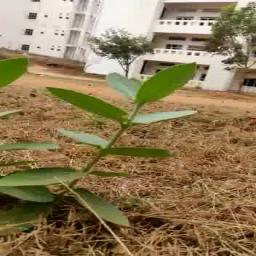CALOTROPIS: (8, 59, 190, 226)
